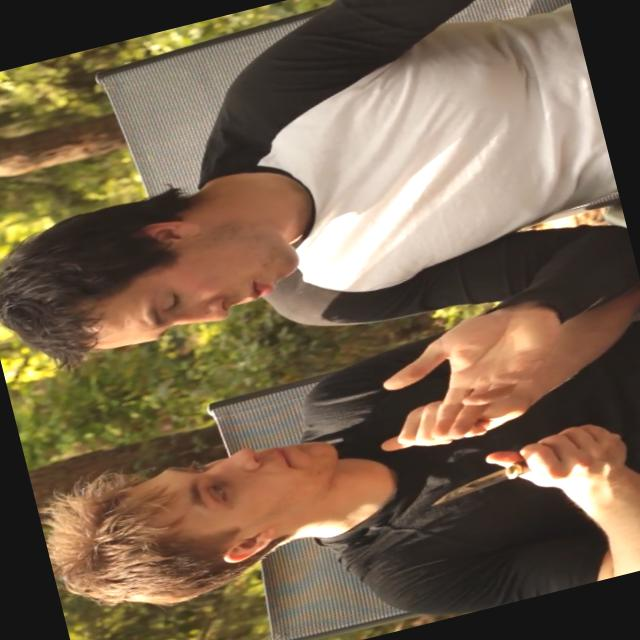knife: (406, 415, 600, 521)
